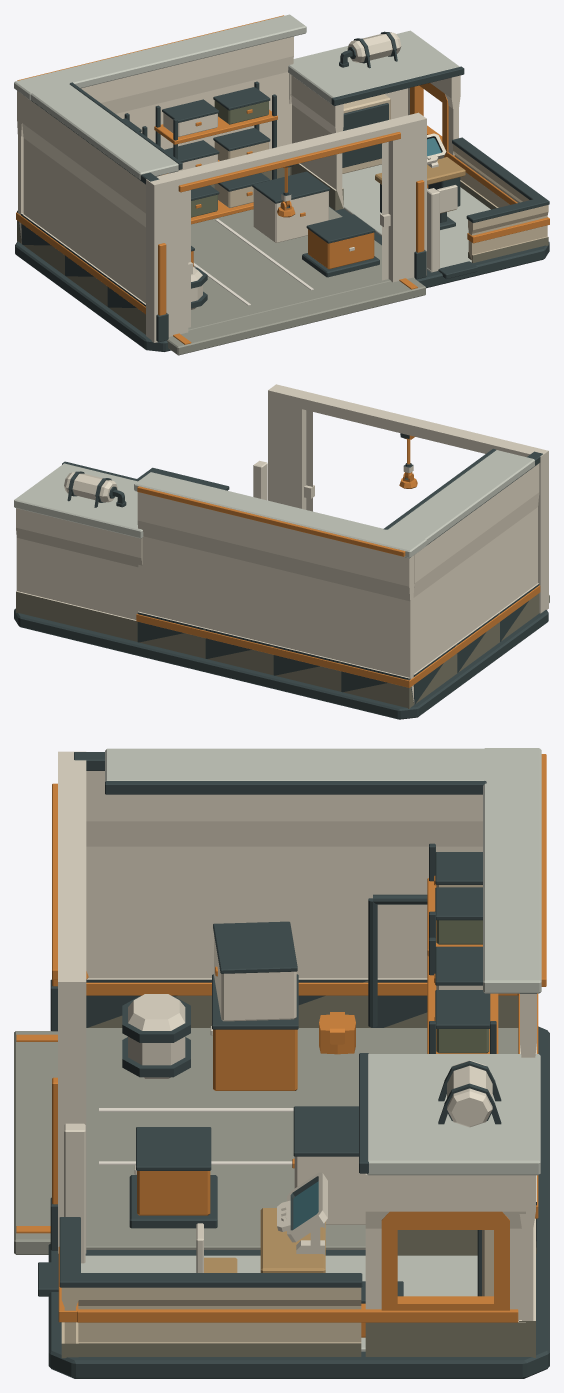
The model's file is freihafen_hall_01.glb.
3 views of the same model, one above another, from view 1: azimuth 30°, elevation 25°; view 2: azimuth 150°, elevation 25°; view 3: azimuth 270°, elevation 25° (orthographic). The views are drawn at different scales.
Visible parts, largest first — view 1: freihafen_hall_01; view 2: freihafen_hall_01; view 3: freihafen_hall_01.
Part boxes in pixels (x1,y1,x2,y2): freihafen_hall_01: (14, 14, 549, 355); freihafen_hall_01: (14, 384, 549, 719); freihafen_hall_01: (14, 748, 549, 1378).
Bounding box in the file's own units: 10.5 × 4.2 × 6.95.
